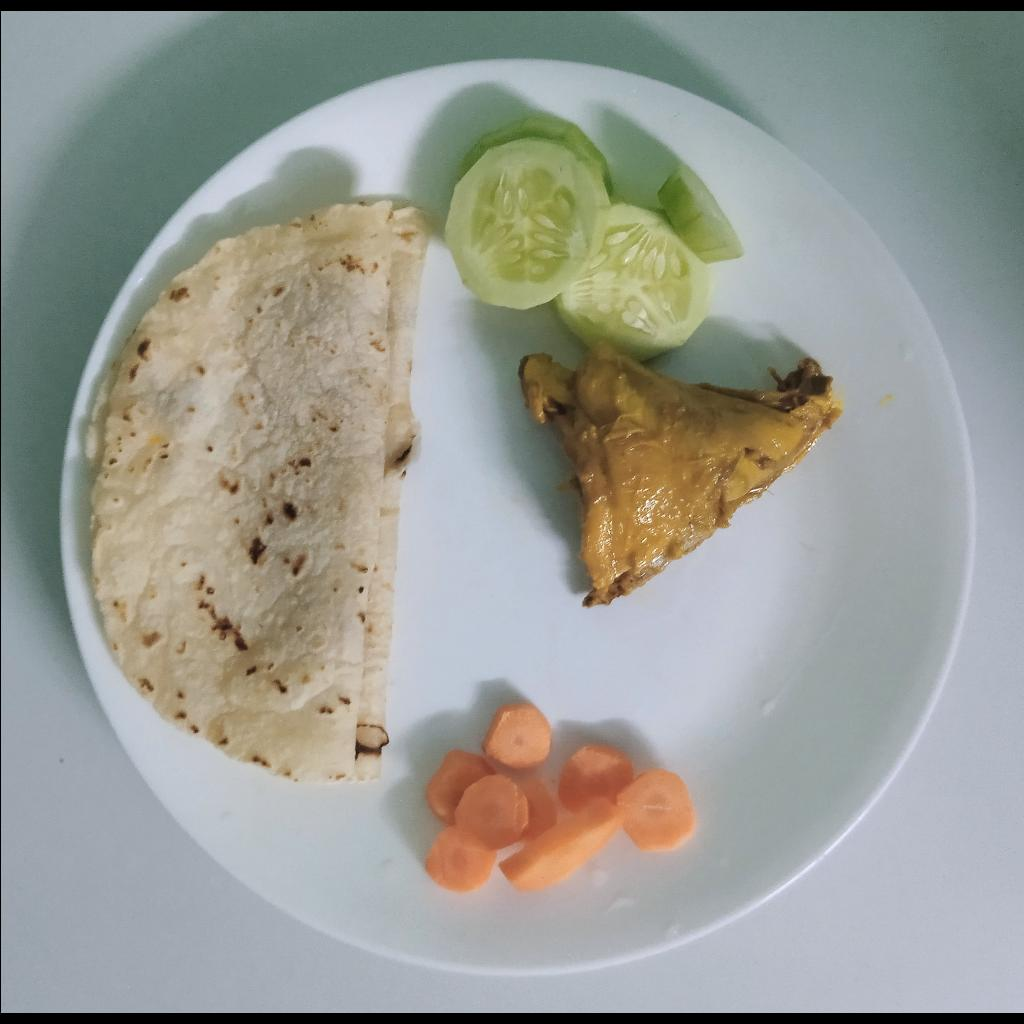carrot: (422, 701, 696, 893)
chicken: (513, 341, 842, 612)
cucumber: (442, 117, 744, 362)
ruti: (84, 198, 438, 783)
